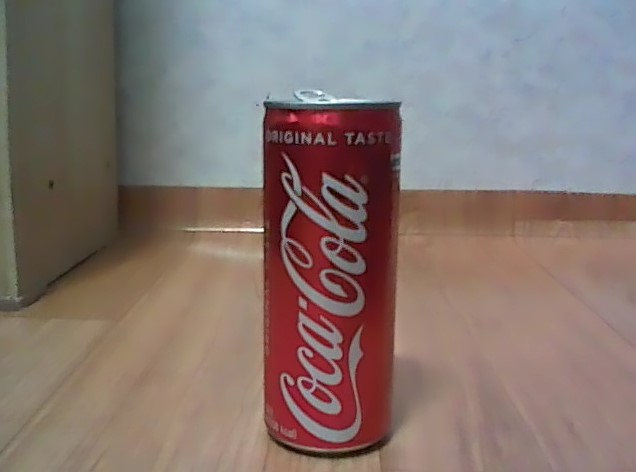Can: (251, 78, 406, 461)
